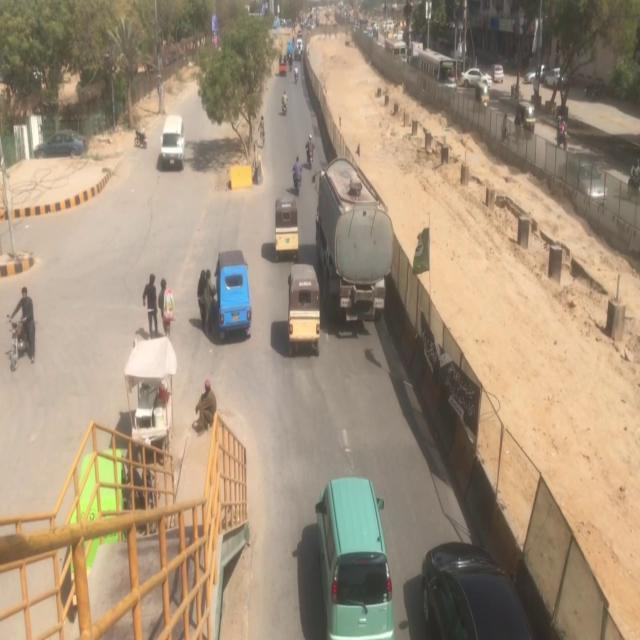car: (312, 476, 406, 640), (418, 522, 546, 640)
motorbike: (4, 277, 46, 388), (292, 154, 306, 196), (303, 131, 317, 170), (280, 89, 290, 116), (294, 65, 300, 84)
truck: (314, 155, 396, 328)
